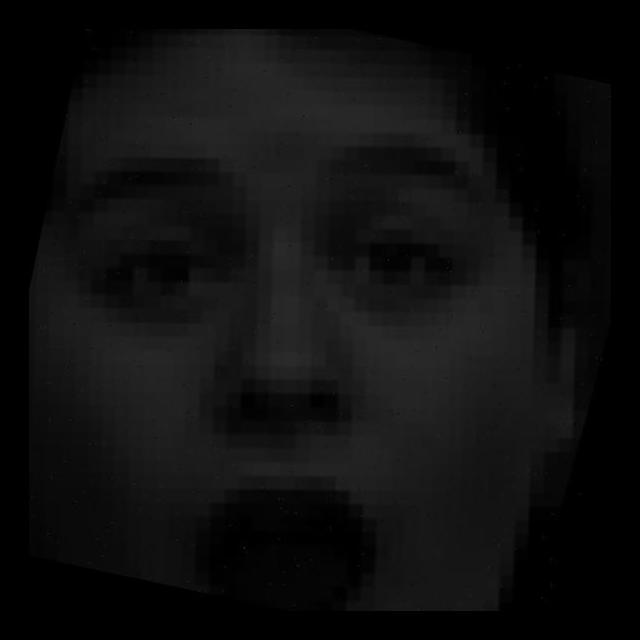Surprised: (48, 104, 537, 597)
